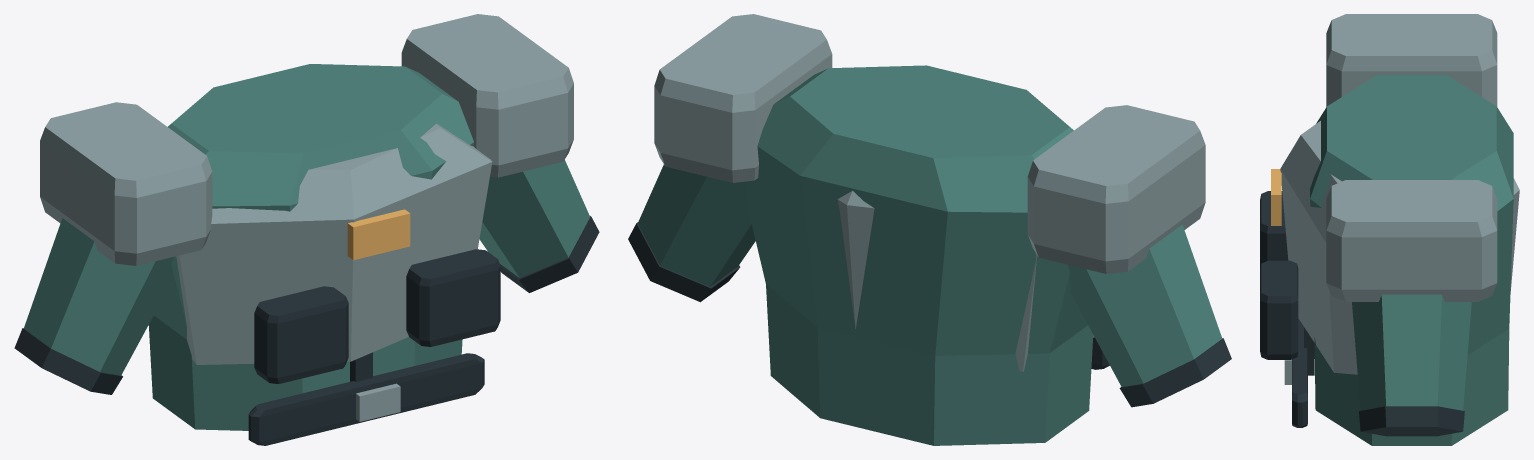
The model's file is SM_NPC_TOP_002_Armor.glb.
3 renders of one model, left to right at view 1: azimuth 30°, elevation 25°; view 2: azimuth 150°, elevation 25°; view 3: azimuth 270°, elevation 25°, orthographic. The views are drawn at different scales.
Visible parts, largest first — view 1: SM_NPC_TOP_002_Armor; view 2: SM_NPC_TOP_002_Armor; view 3: SM_NPC_TOP_002_Armor.
Part boxes in pixels (x1,y1,x2,y2): SM_NPC_TOP_002_Armor: (14,14,599,445); SM_NPC_TOP_002_Armor: (628,14,1231,445); SM_NPC_TOP_002_Armor: (1260,14,1519,445).
Bounding box in the file's own units: 1.03 × 0.5 × 0.4407.
